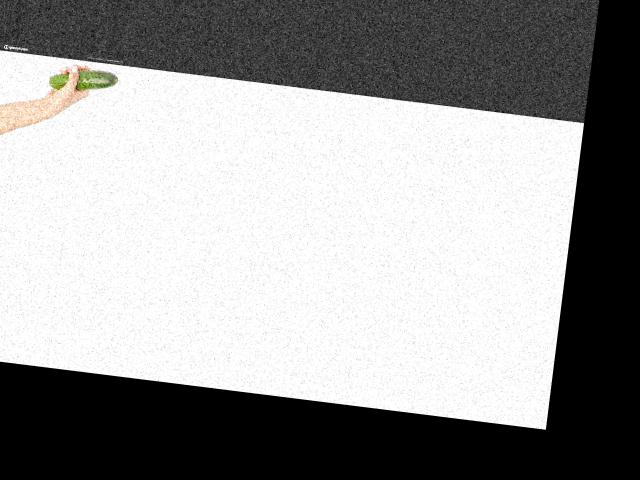cucumber: (49, 64, 119, 96)
